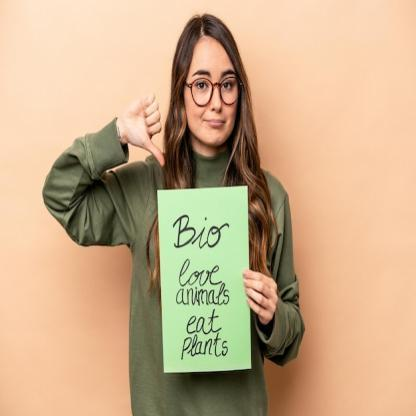thumb_down: (120, 89, 168, 168)
